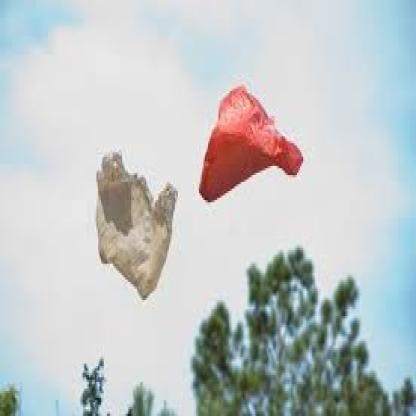trash: (199, 86, 302, 201), (96, 152, 176, 298)
